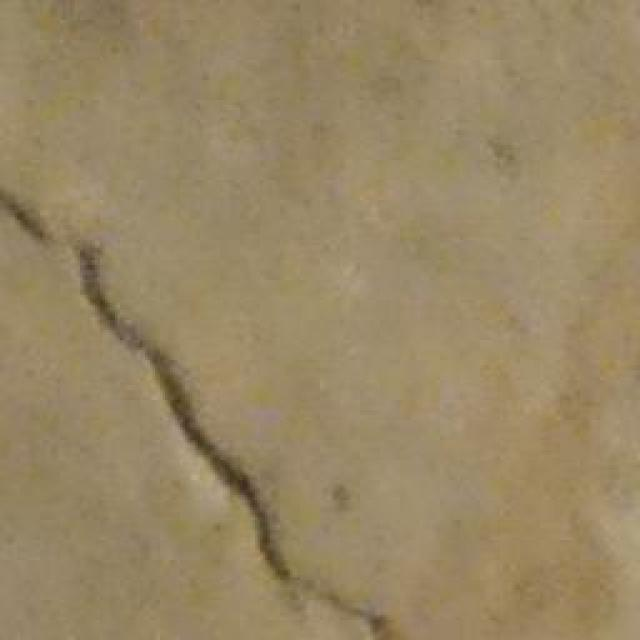Diagonal: (0, 172, 394, 639)
